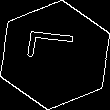L_E: (26, 36, 84, 74)
